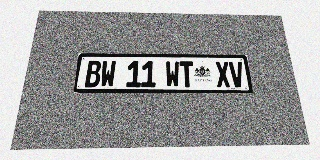1: (126, 61, 141, 87), (141, 61, 155, 87)
B: (85, 61, 102, 87)
T: (179, 61, 194, 87)
V: (228, 62, 245, 87)
W: (100, 61, 116, 87), (165, 61, 180, 87)
X: (215, 61, 231, 87)
